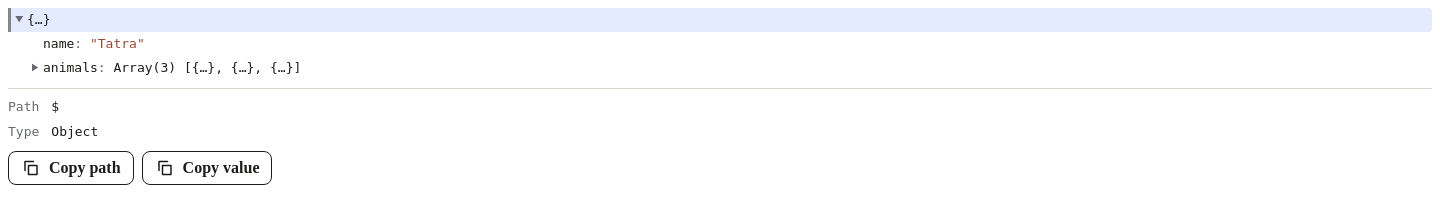
ObjectInspector contract › details › drops the confirmation when the value is replaced
The width and height of the screenshot is (1440, 206).
Click the button "Copy value" at {"x": 207, "y": 168}, box [142,151,272,185]
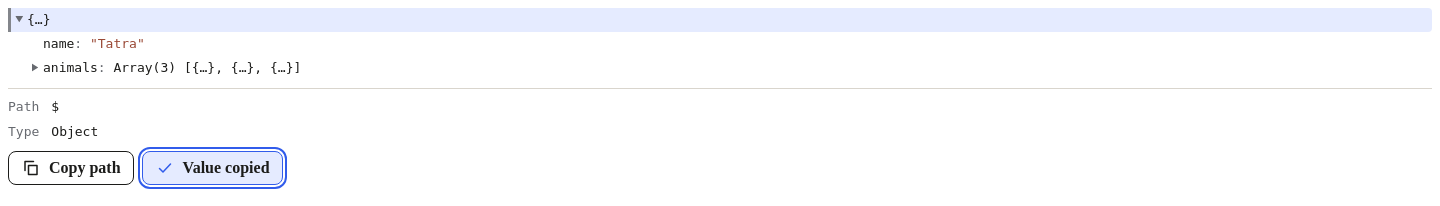
Result: the text "Value copied" is shown at [183,158,270,178]
